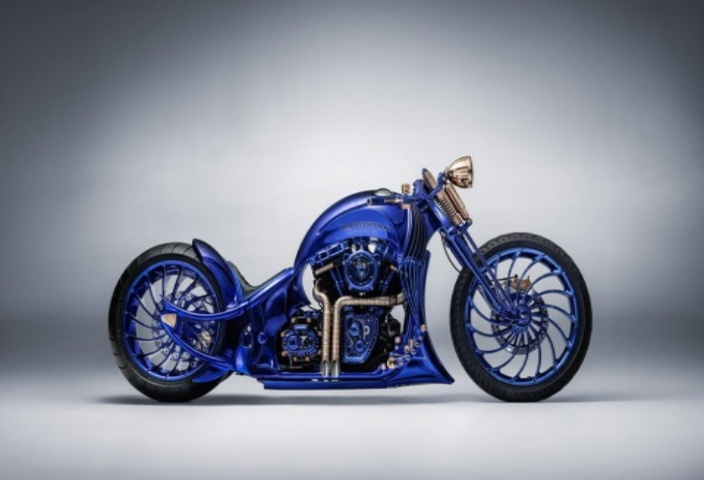motorcycle: (82, 146, 600, 411)
